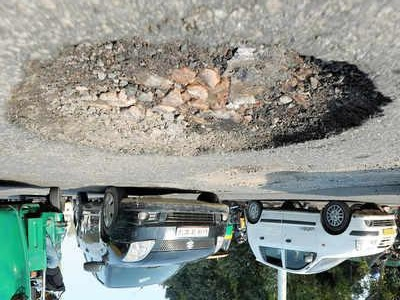pothole: (2, 36, 393, 159), (197, 164, 283, 189)
